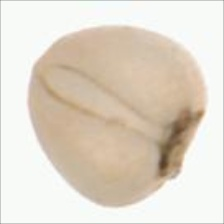L5: (41, 63, 165, 143), (152, 105, 207, 184)
L6: (23, 21, 210, 211)
